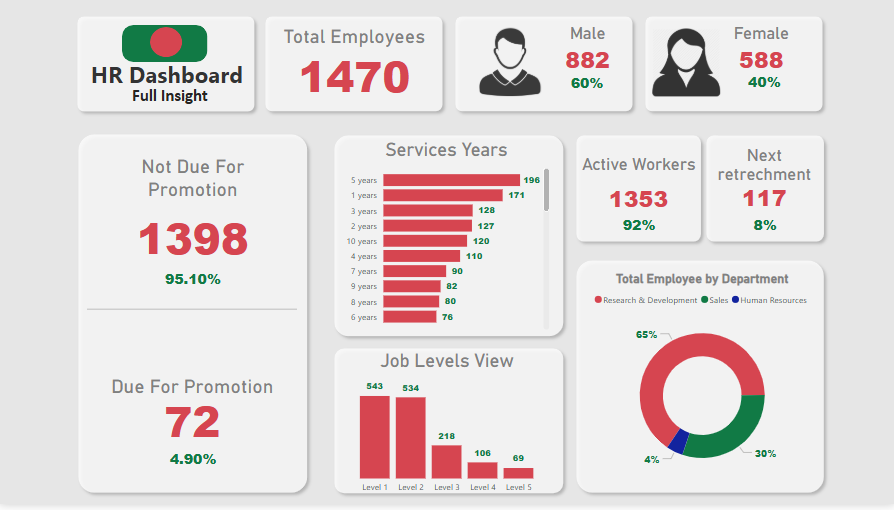

Layout of this report page (visuals, bound fields, positions):
{"tool":"powerbi","page":{"name":"Home","canvas":[1280,720],"ordinal":0},"visuals":[{"type":"shape","box":[103,14.8,271,154],"z":1000},{"type":"shape","box":[371.8,14.8,271.2,153.8],"z":2000},{"type":"shape","box":[914.3,14.8,271.2,153.8],"z":3000},{"type":"shape","box":[643,14.8,271.2,153.8],"z":4000},{"type":"shape","box":[103.9,183.4,345,530],"z":5000},{"type":"shape","box":[470.2,183.8,345,305],"z":6000},{"type":"shape","box":[470.6,488.4,345,225],"z":7000},{"type":"shape","box":[815.2,183.8,196.2,170],"z":8000},{"type":"shape","box":[1001.4,183.8,186.2,170],"z":9000},{"type":"shape","box":[815.6,363.4,371.7,350],"z":10000},{"type":"textbox","box":[117.9,78,243,54],"z":11000},{"type":"textbox","box":[129.9,115,228,54],"z":12000},{"type":"card","title":"Total Employees","fields":{"Values":["All Measures.Total Emp"]},"box":[397.7,35,221.2,107],"z":14000},{"type":"card","title":"Male","fields":{"Values":["All Measures.Total male"]},"box":[779.4,34.1,121.8,80.9],"z":15000},{"type":"card","fields":{"Values":["All Measures.% Male"]},"box":[791.2,93.2,97.3,53.6],"z":16000},{"type":"card","title":"Female","fields":{"Values":["All Measures.Total Female"]},"box":[1027.9,34,121,81],"z":17000},{"type":"card","fields":{"Values":["All Measures.% Female"]},"box":[1044.9,92,98,54],"z":18000},{"type":"image","box":[923.9,35,115.7,107.1],"z":19000},{"type":"image","box":[643.9,34,172,108],"z":20000},{"type":"card","title":"Due For Promotion","fields":{"Values":["All Measures.Total Due for Promotion"]},"box":[140.2,536.3,272.5,93.8],"z":21000},{"type":"card","fields":{"Values":["All Measures.% Due for Promotion"]},"box":[185.2,618.8,182.5,76.2],"z":22000},{"type":"shape","box":[126.4,433.8,300,15],"z":23000},{"type":"card","title":"Not Due For Promotion","fields":{"Values":["All Measures.Total Not Due for Promotion"]},"box":[140.8,221.9,271.1,165.5],"z":24000},{"type":"card","fields":{"Values":["All Measures.% Not Due for Promotion"]},"box":[185.1,361.8,182.7,77.1],"z":25000},{"type":"barChart","title":"Services Years","fields":{"Category":["HR Analytics Data.Service Year"],"Y":["All Measures.Total Emp"]},"box":[487.7,197.5,303.8,278.8],"z":26000},{"type":"clusteredColumnChart","title":"Job Levels View","fields":{"Category":["HR Analytics Data.Job Level"],"Y":["All Measures.Total Emp"]},"box":[490.2,498.8,300,215],"z":27000},{"type":"card","title":"Active Workers","fields":{"Values":["All Measures.Total On Services"]},"box":[826.4,221.3,176.2,102.5],"z":28000},{"type":"card","fields":{"Values":["All Measures.% On Services"]},"box":[865.2,296.3,97.5,53.8],"z":29000},{"type":"card","title":"Next retrechment","fields":{"Values":["All Measures.Total Retrechment"]},"box":[1011.4,208.8,163.8,98.8],"z":30000},{"type":"card","fields":{"Values":["All Measures.% Will be Retrechment"]},"box":[1045.2,296.3,97.5,53.8],"z":31000},{"type":"donutChart","title":"Total Employee by Department","fields":{"Category":["HR Analytics Data.Department"],"Y":["All Measures.Total Emp"]},"box":[833.9,387.8,340.9,307.3],"z":32000},{"type":"shape","box":[175.9,35,122,53],"z":33000},{"type":"shape","box":[215.9,39,46,43],"z":33500}]}

Visuals, with their boxes in screenshot pixels (x1, y1, x2, y2), scaled from the page's 1280x720 canvas onto the 894x510 screenshot:
shape: box(72, 10, 261, 120)
shape: box(260, 10, 449, 119)
shape: box(639, 10, 828, 119)
shape: box(449, 10, 639, 119)
shape: box(73, 130, 314, 505)
shape: box(328, 130, 569, 346)
shape: box(329, 346, 570, 505)
shape: box(569, 130, 706, 251)
shape: box(699, 130, 829, 251)
shape: box(570, 257, 829, 505)
textbox: box(82, 55, 252, 94)
textbox: box(91, 81, 250, 120)
"Total Employees" card: box(278, 25, 432, 101)
"Male" card: box(544, 24, 629, 81)
card - All Measures.% Male: box(553, 66, 621, 104)
"Female" card: box(718, 24, 802, 81)
card - All Measures.% Female: box(730, 65, 798, 103)
image: box(645, 25, 726, 101)
image: box(450, 24, 570, 101)
"Due For Promotion" card: box(98, 380, 288, 446)
card - All Measures.% Due for Promotion: box(129, 438, 257, 492)
shape: box(88, 307, 298, 318)
"Not Due For Promotion" card: box(98, 157, 288, 274)
card - All Measures.% Not Due for Promotion: box(129, 256, 257, 311)
"Services Years" barChart: box(341, 140, 553, 337)
"Job Levels View" clusteredColumnChart: box(342, 353, 552, 506)
"Active Workers" card: box(577, 157, 700, 229)
card - All Measures.% On Services: box(604, 210, 672, 248)
"Next retrechment" card: box(706, 148, 821, 218)
card - All Measures.% Will be Retrechment: box(730, 210, 798, 248)
"Total Employee by Department" donutChart: box(582, 275, 821, 492)
shape: box(123, 25, 208, 62)
shape: box(151, 28, 183, 58)
